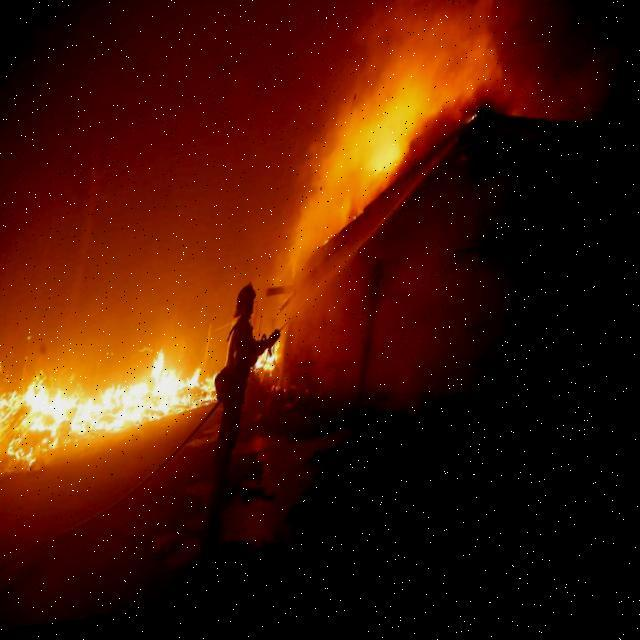Fire: (0, 342, 232, 478), (270, 352, 292, 380)
